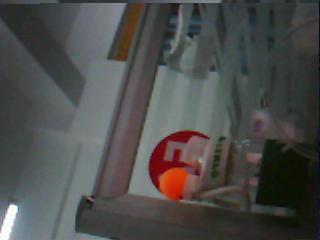oball: (160, 166, 187, 200)
